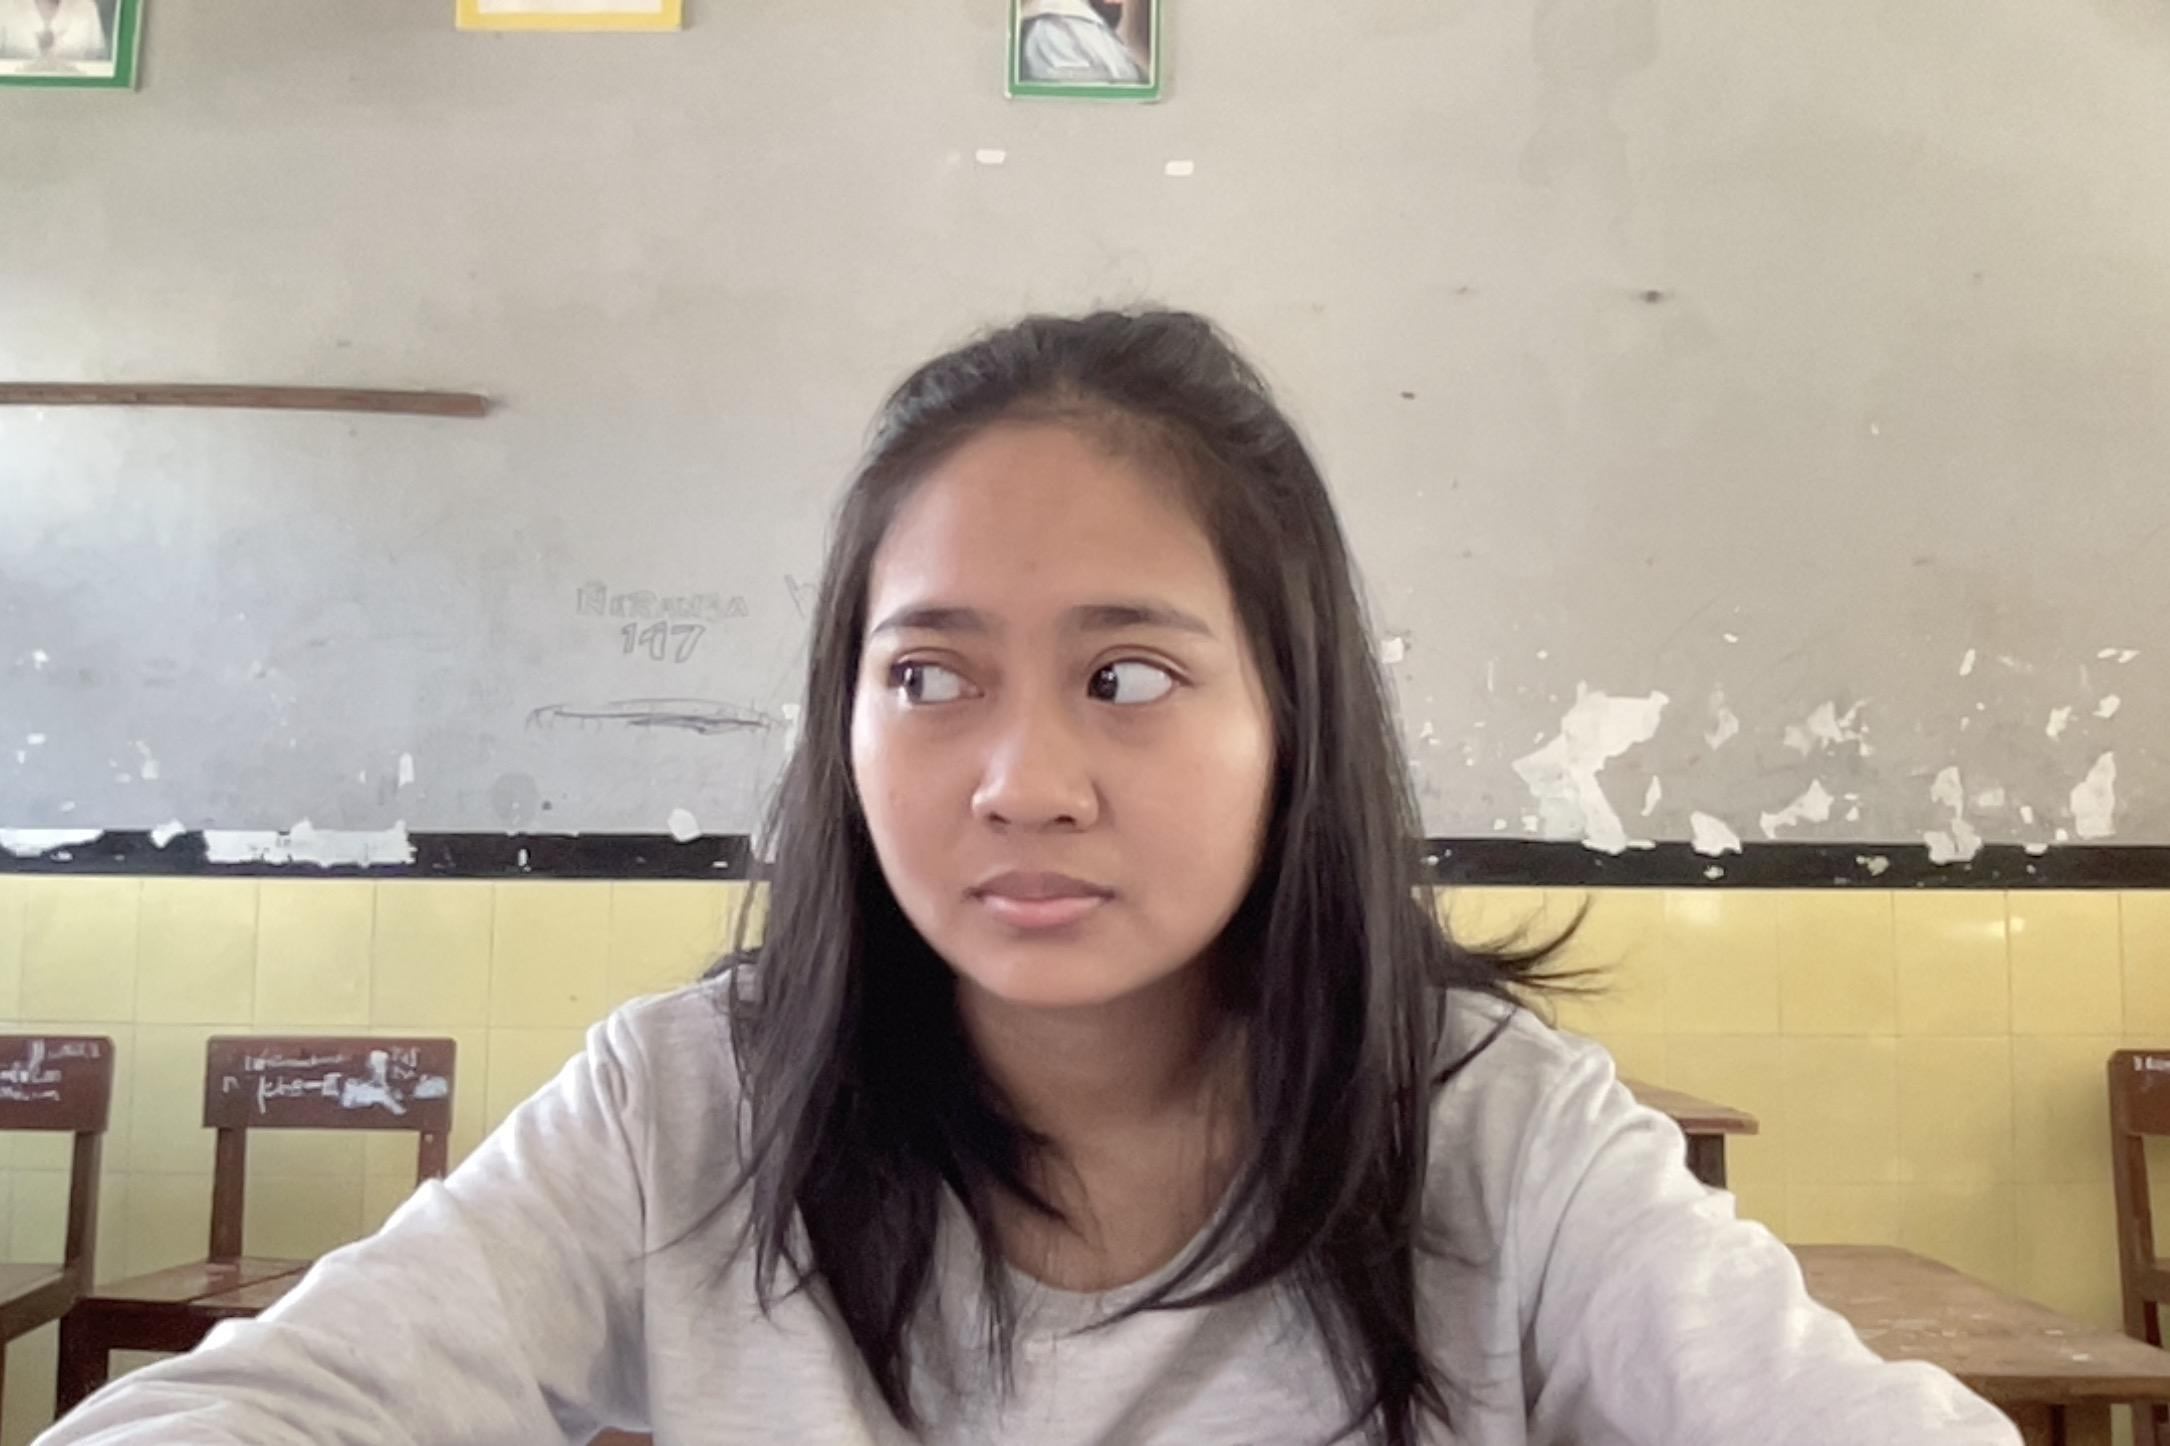cheating: (647, 237, 1638, 1446)
